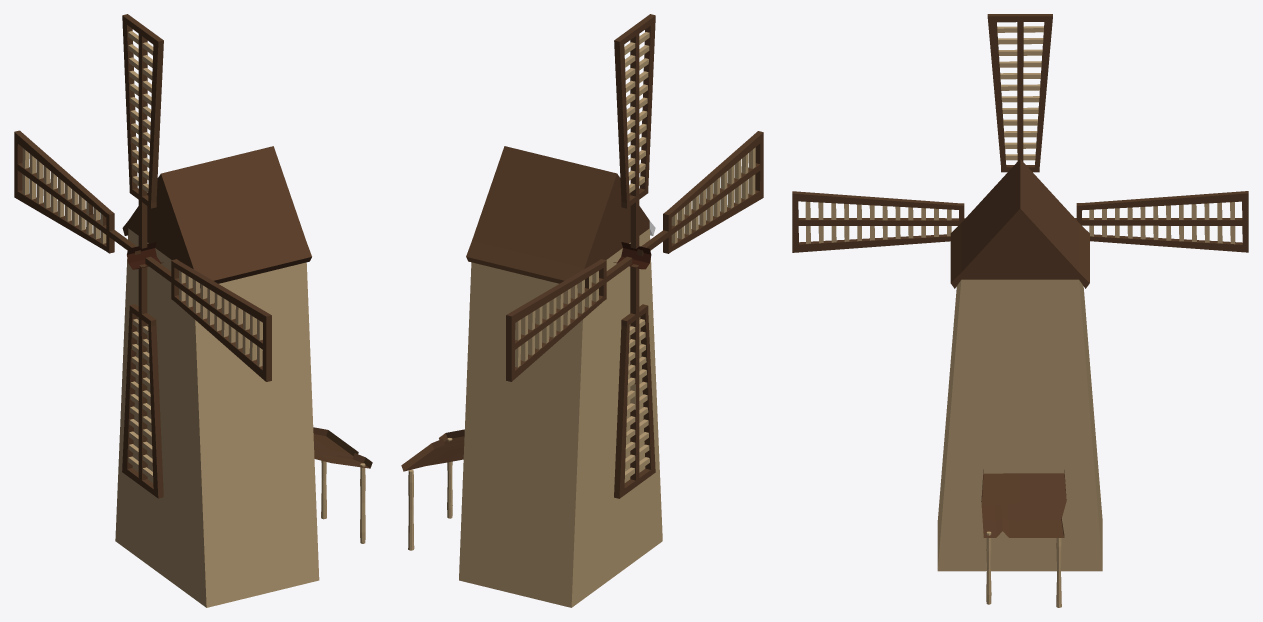
The model's file is Mulino.glb.
3 renders of one model, left to right at view 1: azimuth 30°, elevation 25°; view 2: azimuth 150°, elevation 25°; view 3: azimuth 270°, elevation 25°, orthographic. The views are drawn at different scales.
Parts seen in each view (by area): view 1: Cube, Pale; view 2: Cube, Pale; view 3: Cube, Pale.
Part boxes in pixels (x1,y1,x2,y2): Cube: (115,146,372,607); Pale: (14,14,271,498); Cube: (401,146,662,607); Pale: (506,14,763,498); Cube: (937,159,1102,607); Pale: (792,14,1248,252).
Bounding box in the file's own units: 5.86 × 14.12 × 11.62.
